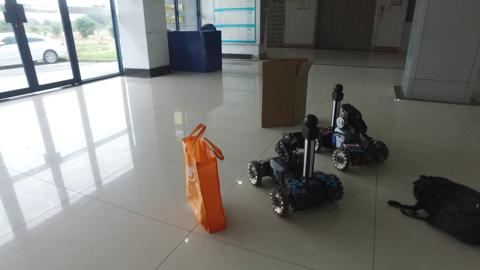bag: (179, 122, 226, 236)
box: (260, 57, 307, 128)
chariot: (248, 115, 346, 217), (307, 82, 393, 166)
